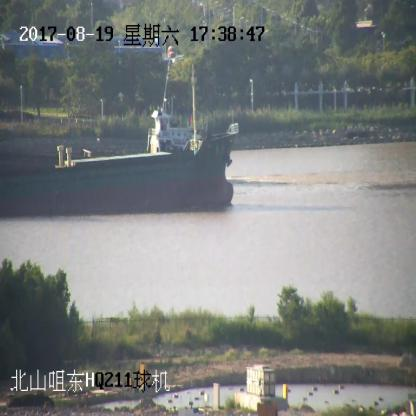Bulk Carrier: (0, 119, 236, 211)
